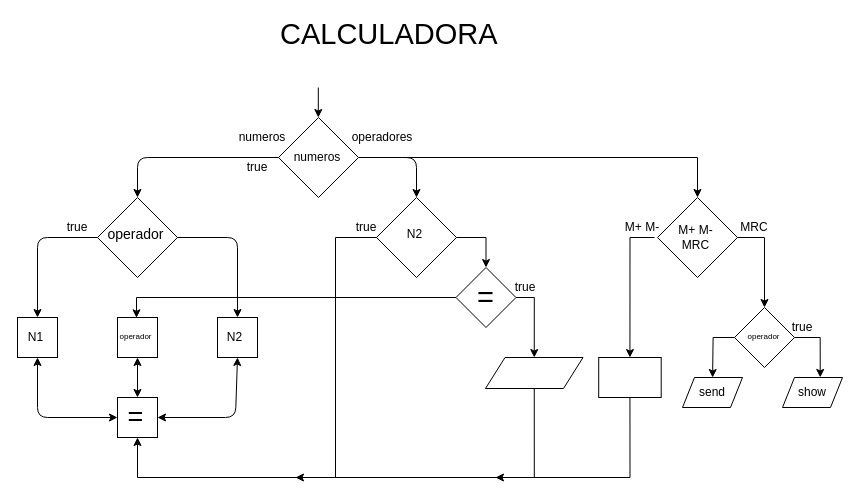
This 860x503 diagram has some shape labels left out. The shapes that lost their labels are listed below. From the top down, each one's centre as x and y in pixels, then its label:
(x=533, y=372): Copy once N2 = N1
(x=629, y=377): Copy N1 to Memory
